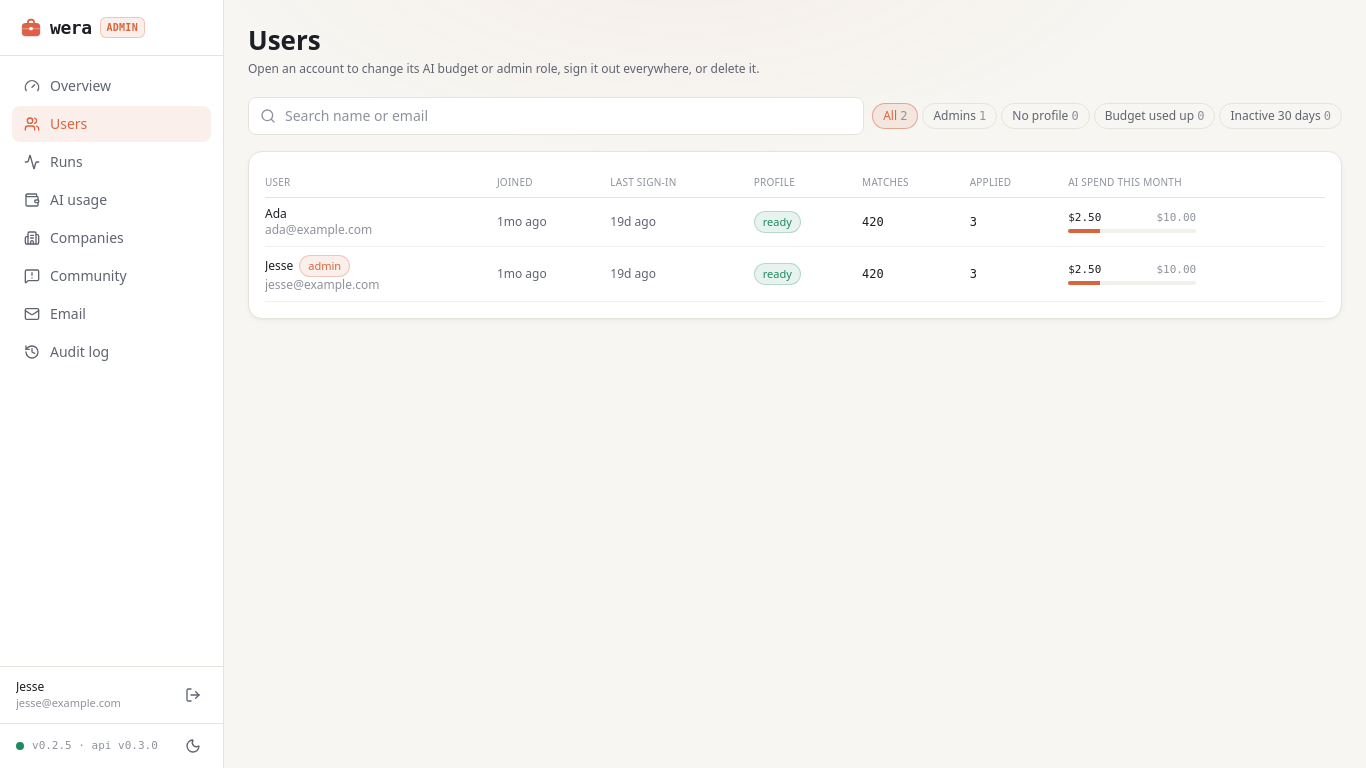
Scenario: UsersPage › changes a budget and the admin role
Click the text "Ada" at (276, 213), box [265, 205, 287, 222]
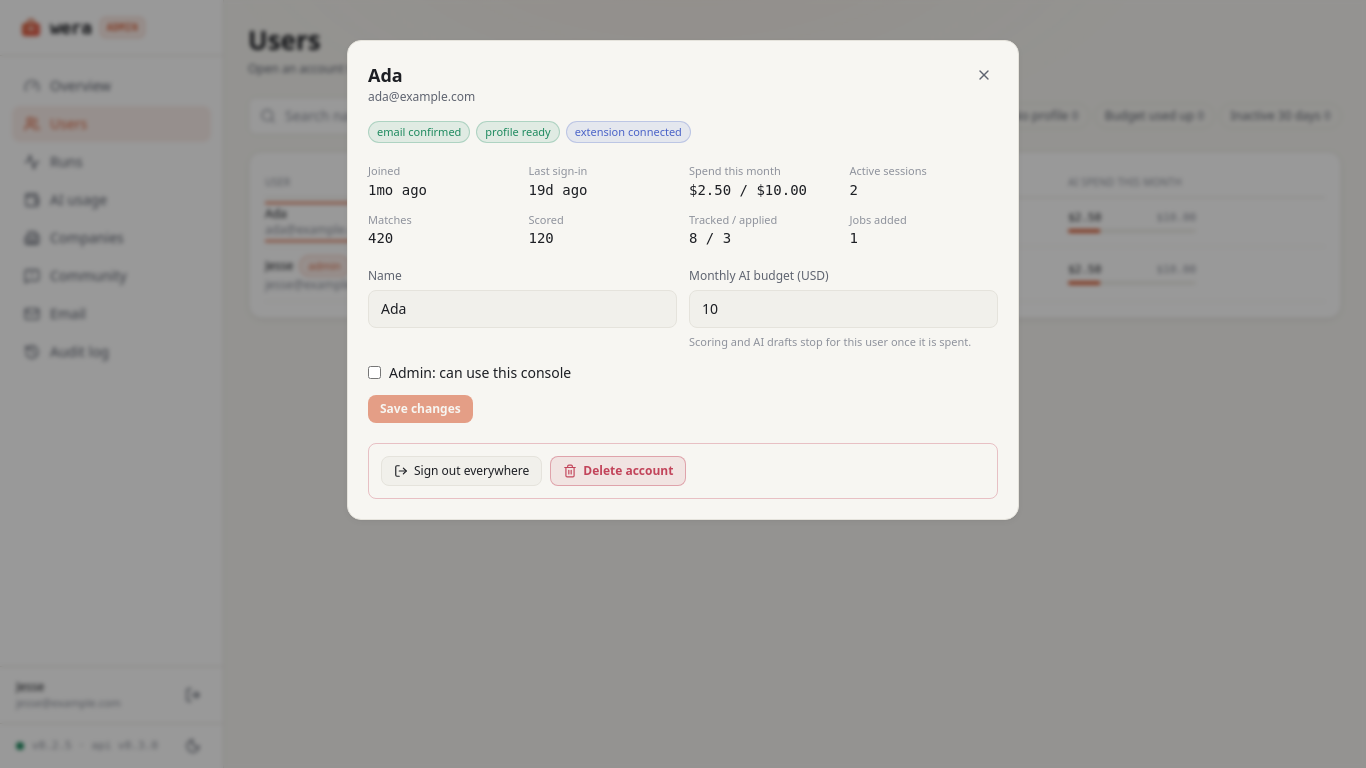
Replace the text in the number field labelled "Monthly AI budget" with "25" at (844, 309), box [689, 290, 998, 328]
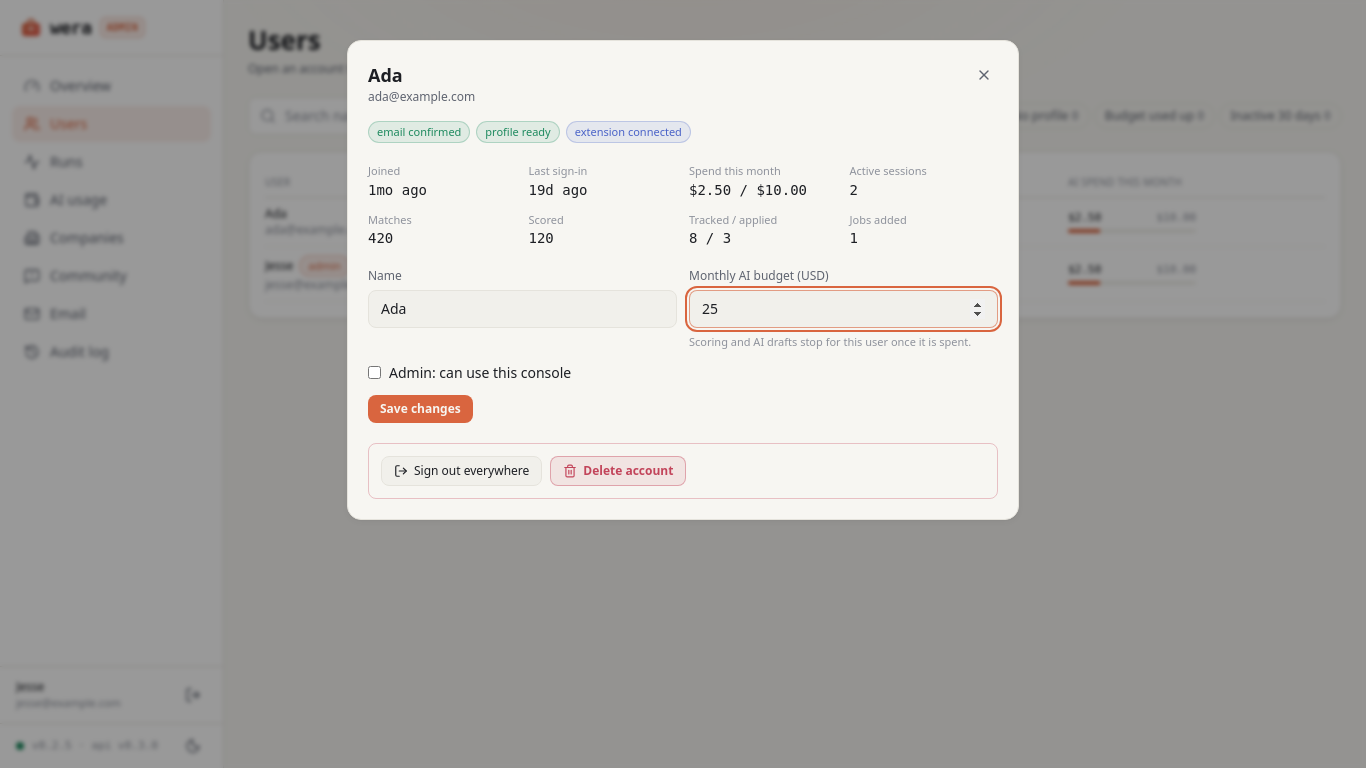
Click the checkbox labelled "Admin: can use this console" at (374, 372), box [368, 366, 381, 379]
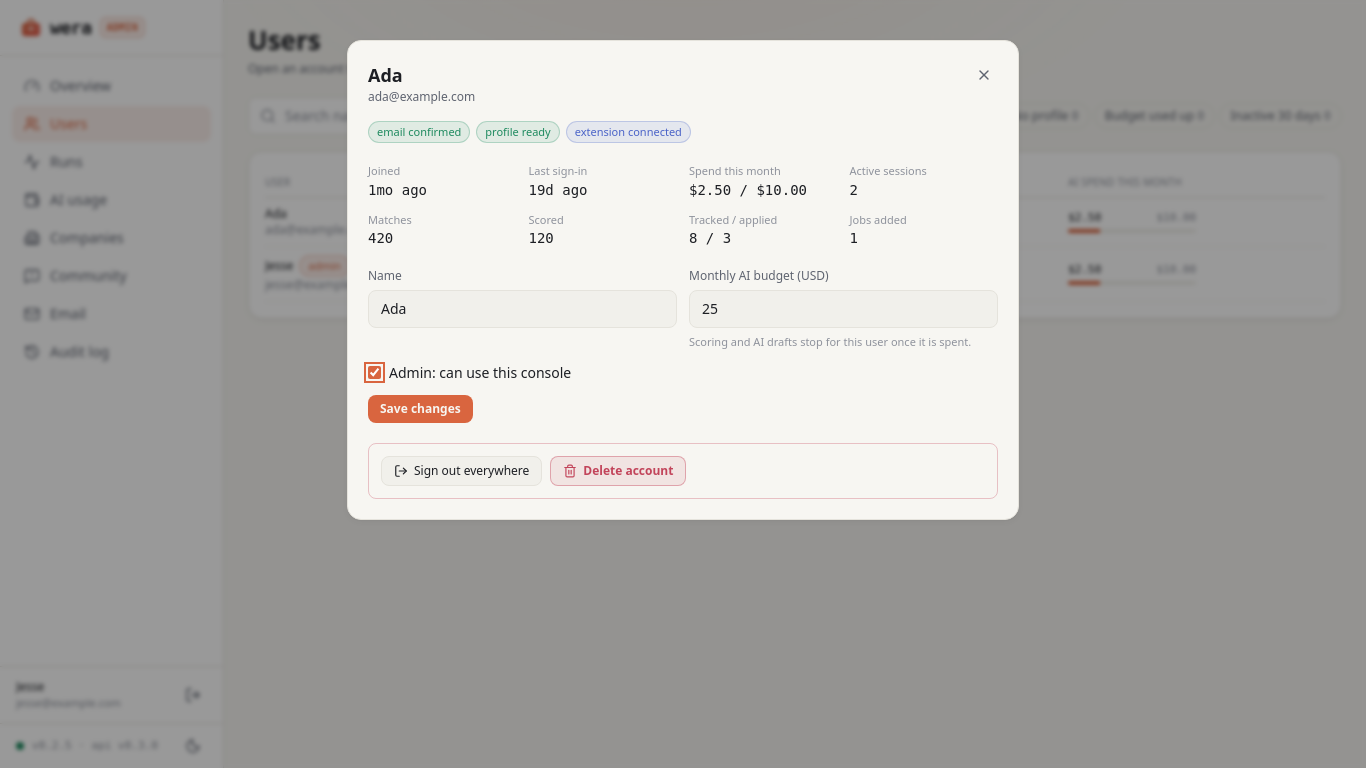
Click the button "Save changes" at (420, 408), box [368, 394, 473, 422]
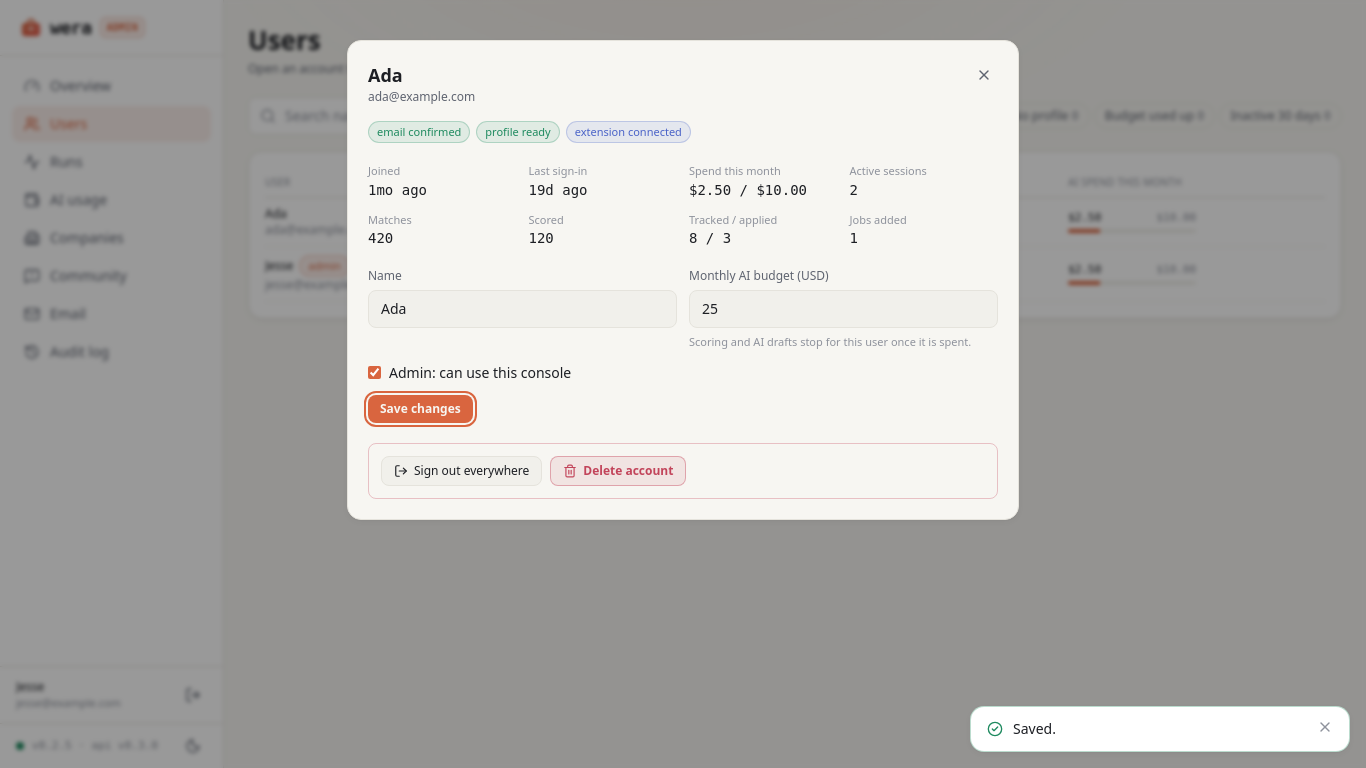
Expected: the text "Saved." is shown, [1013, 719, 1056, 739]
